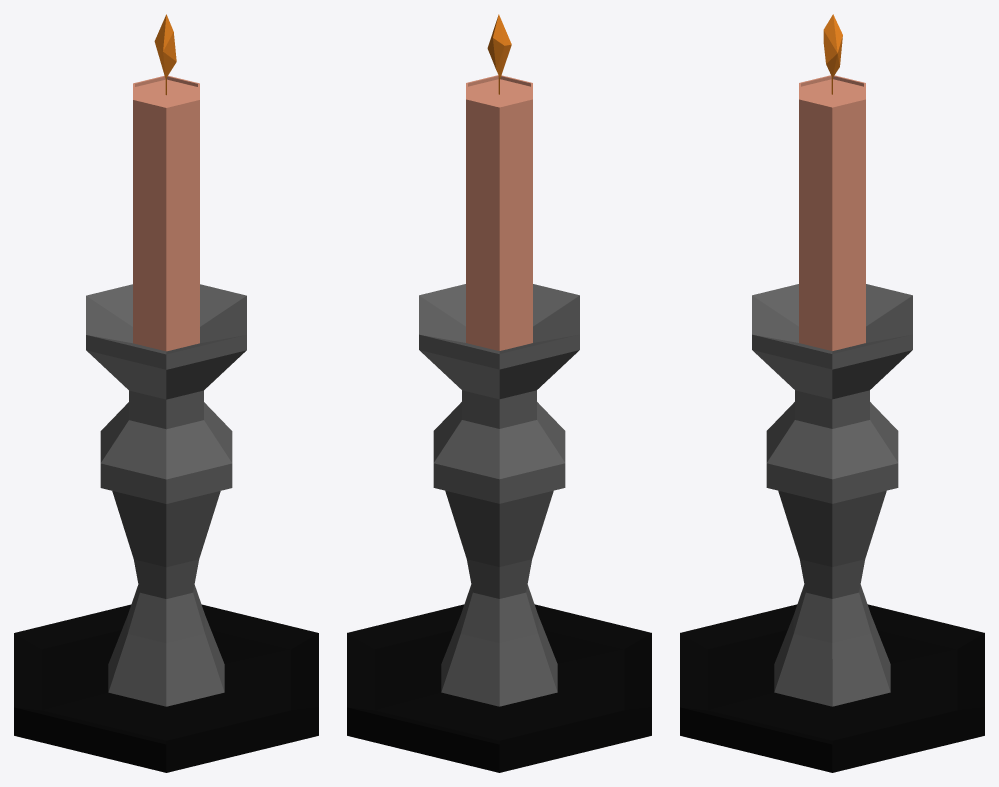
File: Candle_01.fbx
3 renders of one model, left to right at view 1: azimuth 30°, elevation 25°; view 2: azimuth 150°, elevation 25°; view 3: azimuth 270°, elevation 25°, orthographic.
Visible parts, largest first — view 1: Candle_01; view 2: Candle_01; view 3: Candle_01.
Part boxes in pixels (x1,y1,x2,y2): Candle_01: (14,14,318,772); Candle_01: (347,14,651,772); Candle_01: (680,14,984,772).
Size of the model in its own units: 21.71 by 46.6 by 18.81.
